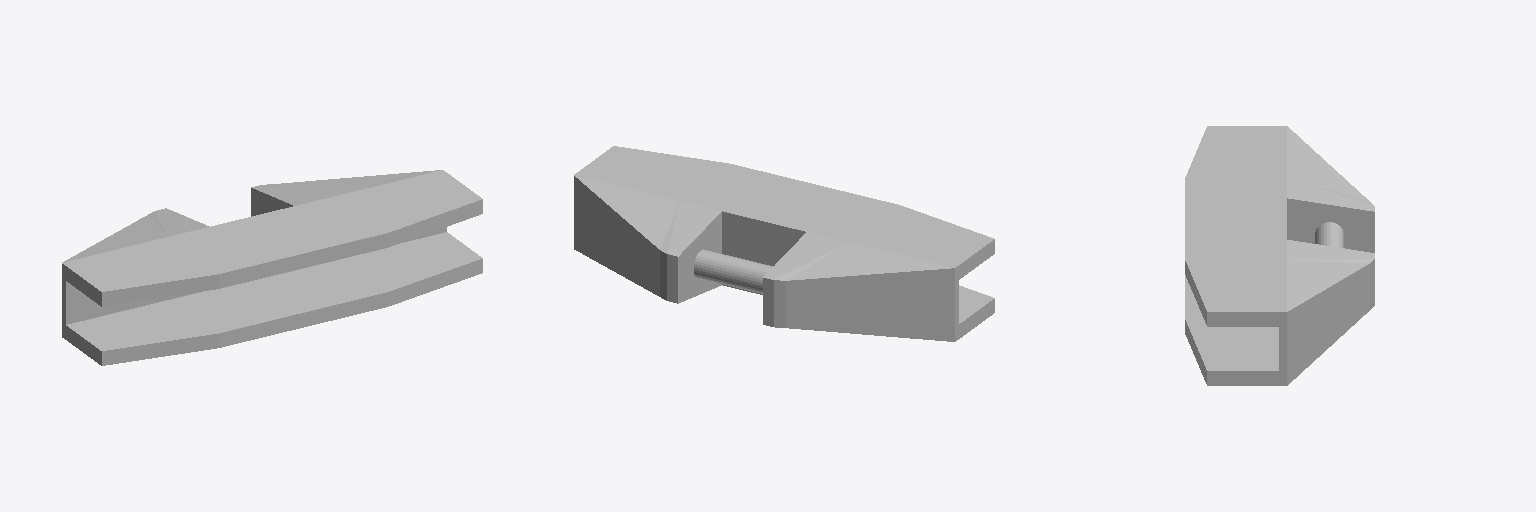
The model's file is upper_block.obj.
The picture shows the model from 3 angles: view 1: azimuth 30°, elevation 25°; view 2: azimuth 150°, elevation 25°; view 3: azimuth 270°, elevation 25°; orthographic projection.
Size of the model in its own units: 5.99 by 1.11 by 2.57.